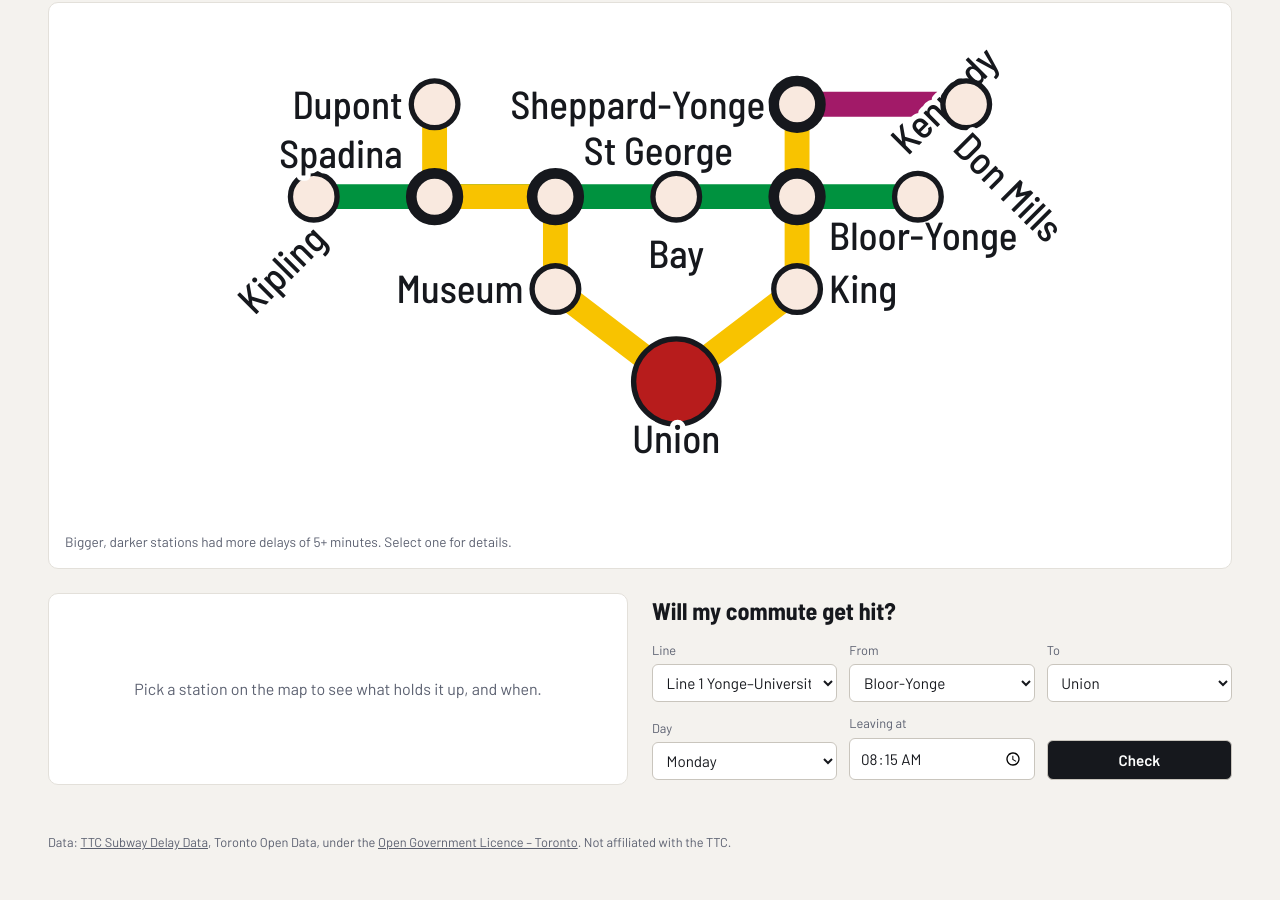
Test: App › resets the trip when the line changes
(page scrolled)
Click the button "Check". click: (1139, 760)
box: [1047,740,1232,780]
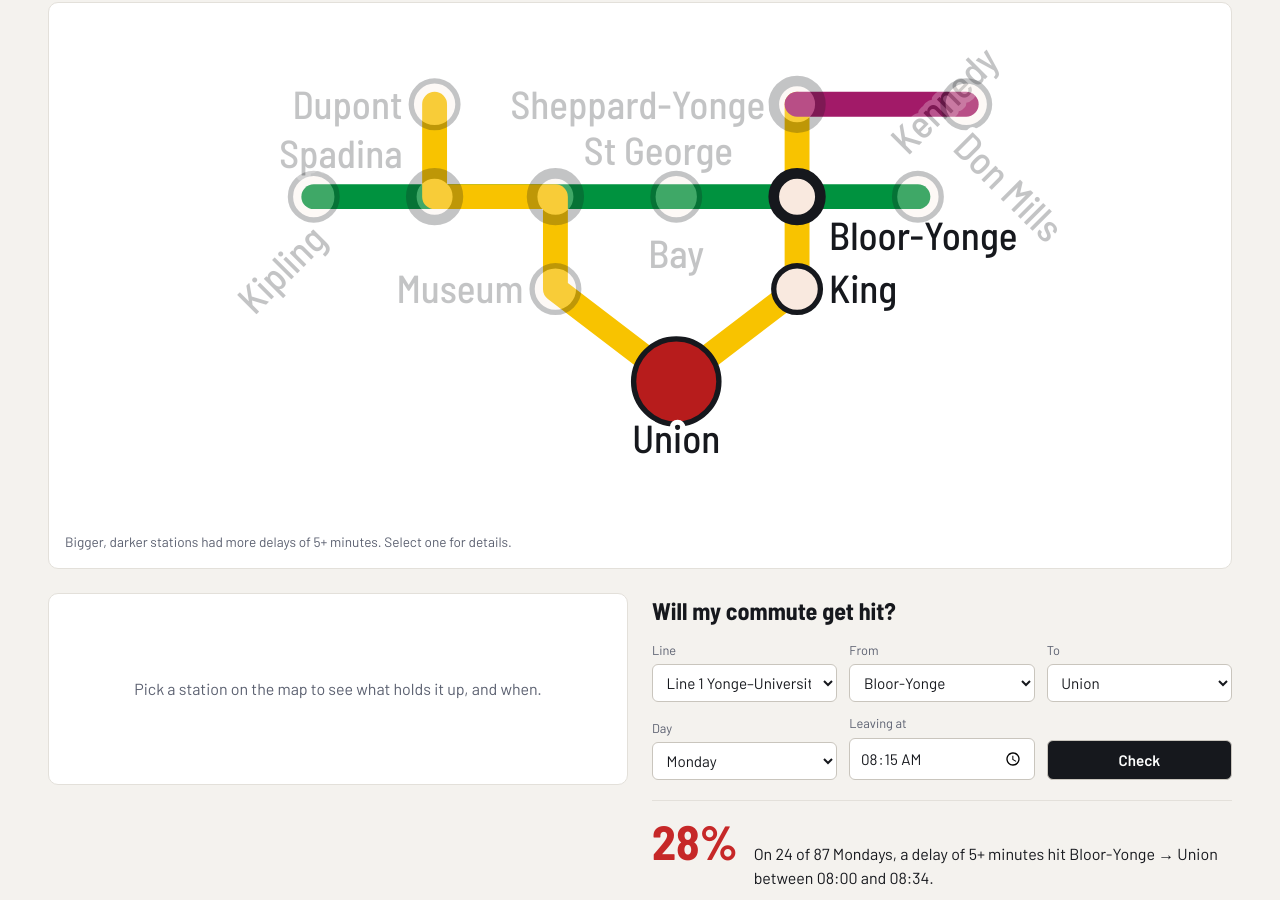
expect the text "28%" is shown: met, box [652,818,738,866]
Select "Line 4 Sheppard" in the dropdown labelled "Line". click: (745, 684)
box: [652,664,837,702]
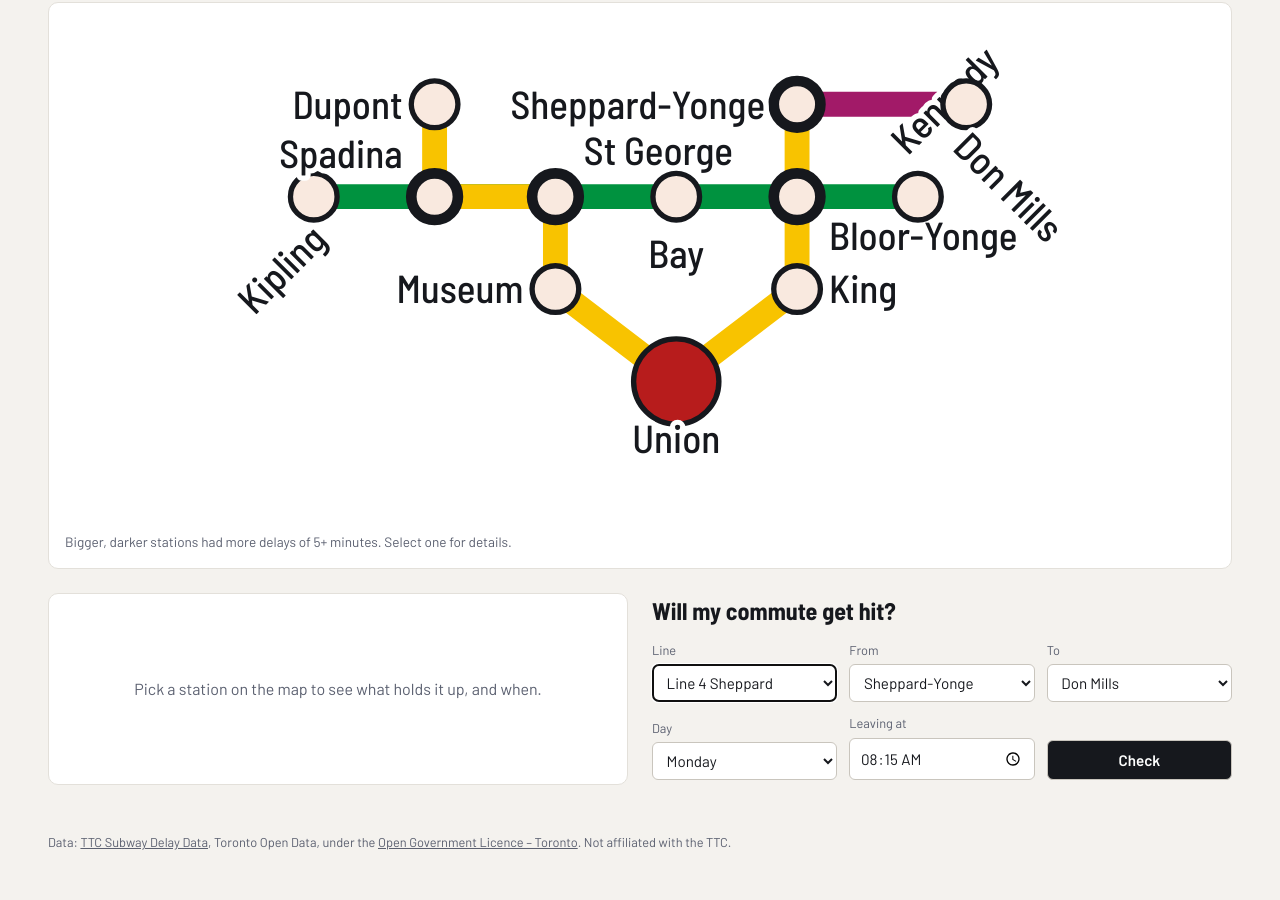
expect the text "28%" is gone: met
expect the dropdown labelled "From" shows "Sheppard-Yonge": met, box [849,664,1035,702]
expect the dropdown labelled "To" shows "Don Mills": met, box [1047,664,1232,702]
